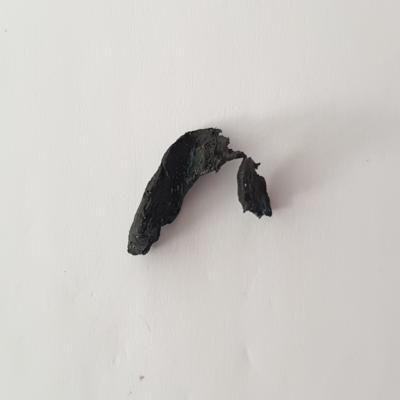plastic: (121, 123, 279, 259)
